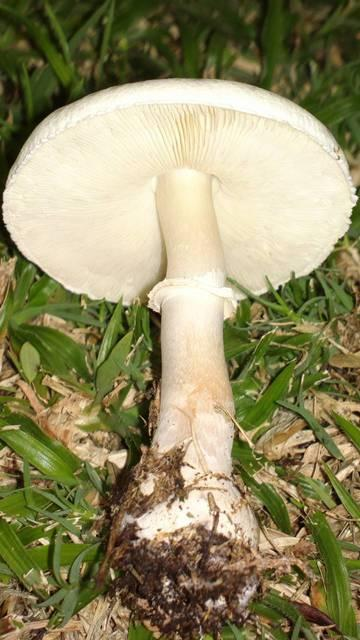poisonous_mushroom: (0, 76, 358, 638)
